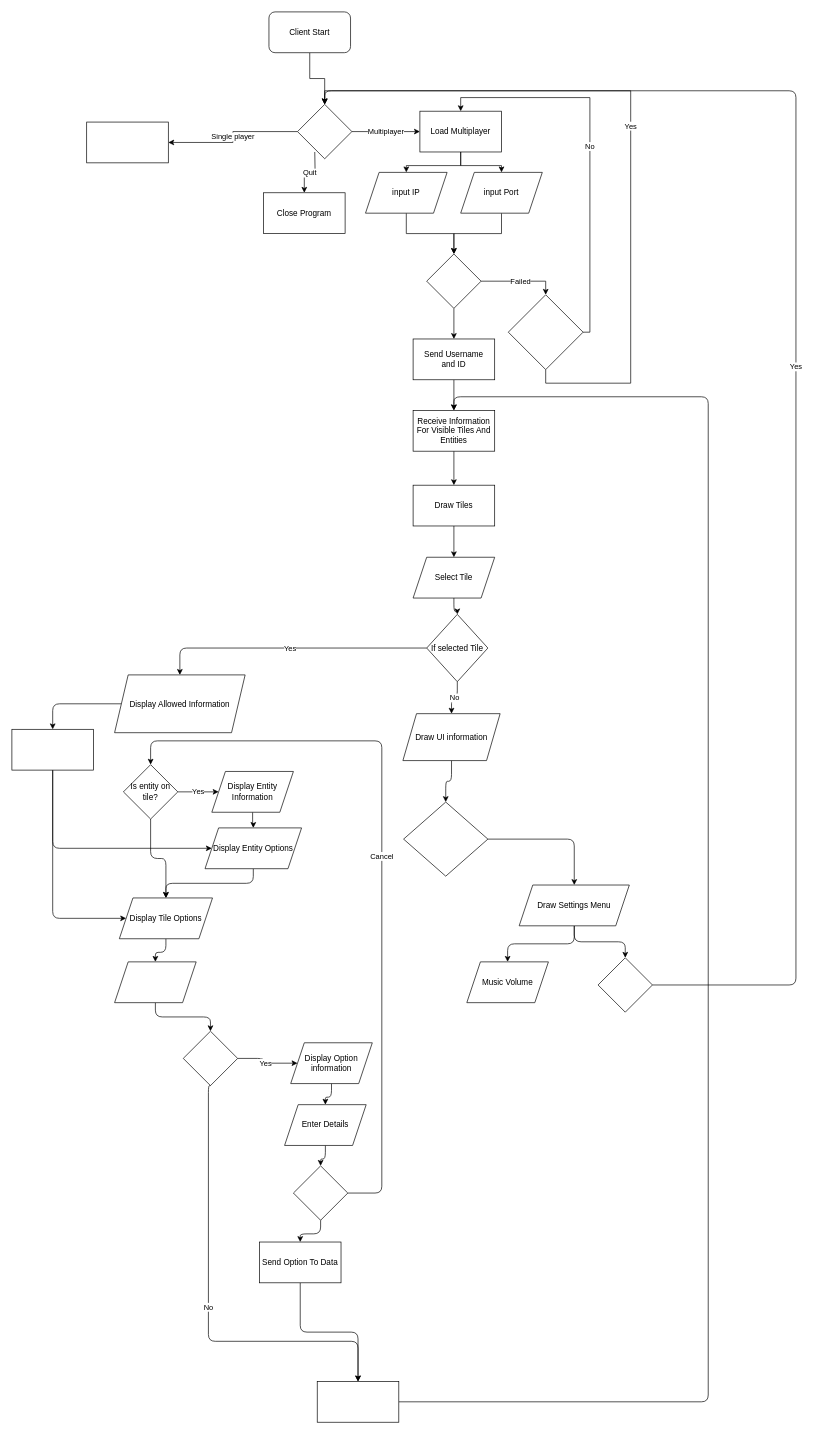
This 814x1434 diagram has some shape labels left out. The centre of each missing label's shape, as x and y in pixels:
Ask if Go back to main menu: the point at 545,332
Confirm/Cancel: the point at 320,1192
Connect To Server: the point at 453,280
Get Adjacent Tiles: the point at 52,749
Has settings menu been Opened?: the point at 445,838
Loading Screen: the point at 324,131
Quit game: the point at 624,984
Select Option: the point at 155,982
Selected Option: the point at 210,1058
Update Position & Send Visible selection to data: the point at 358,1401
